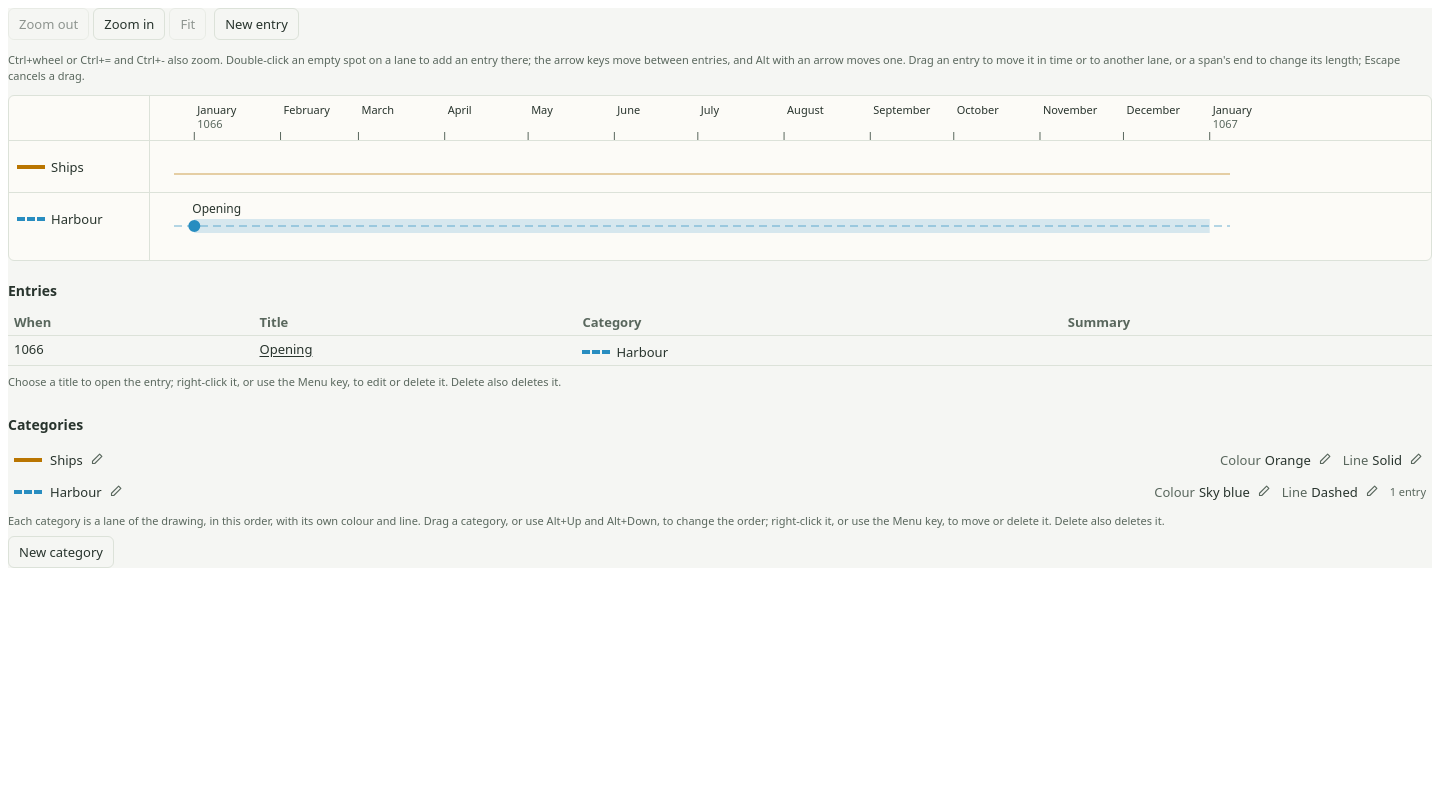
Test: timeline entries › are deleted from their dialog after asking
This screenshot has width=1440, height=810.
Click the button "Opening" below "When" at (286, 349), box [260,340,312,358]
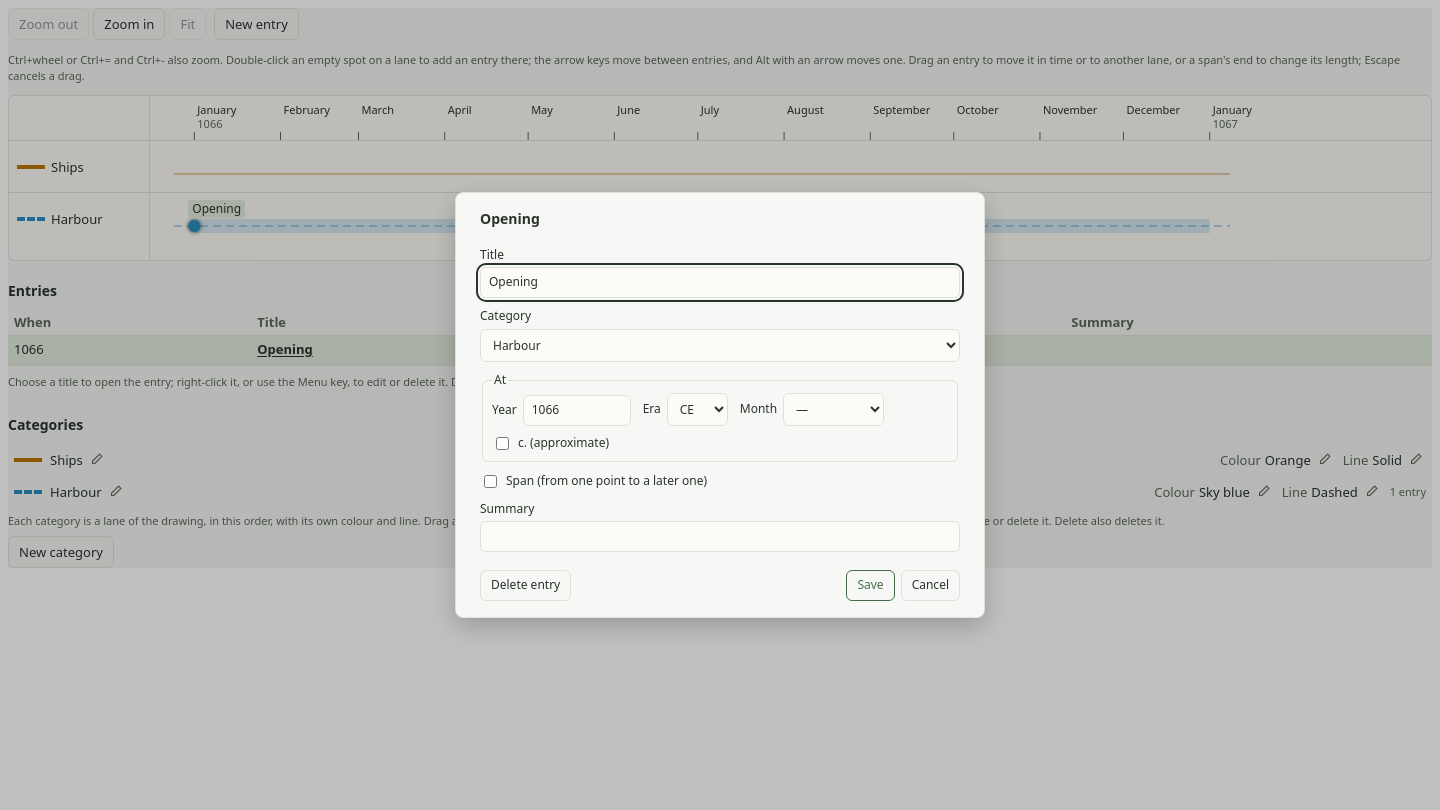
Click the button "Delete entry" at (526, 586), box [480,570,571,601]
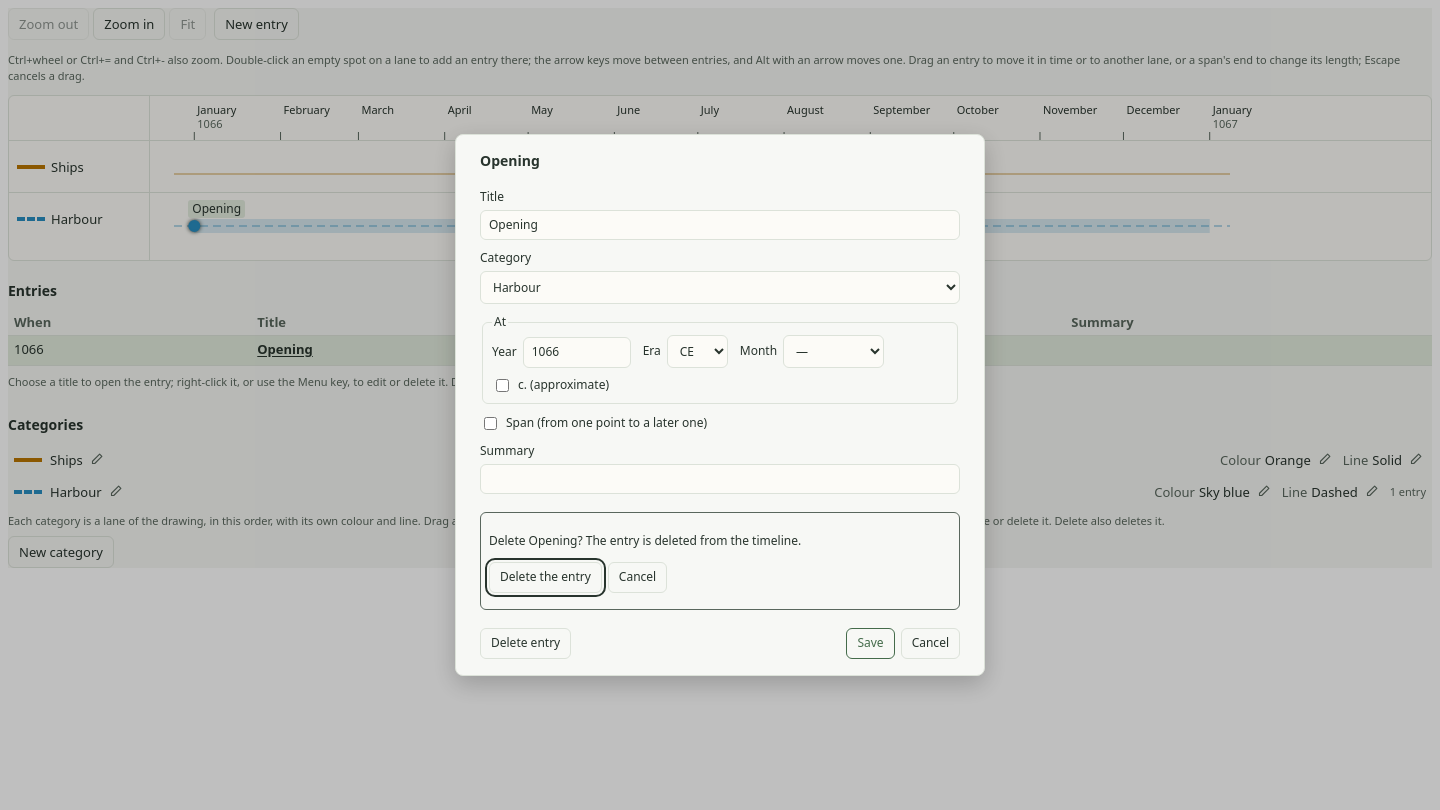
Click the 1st button "Cancel" at (638, 578), box [608,562,667,593]
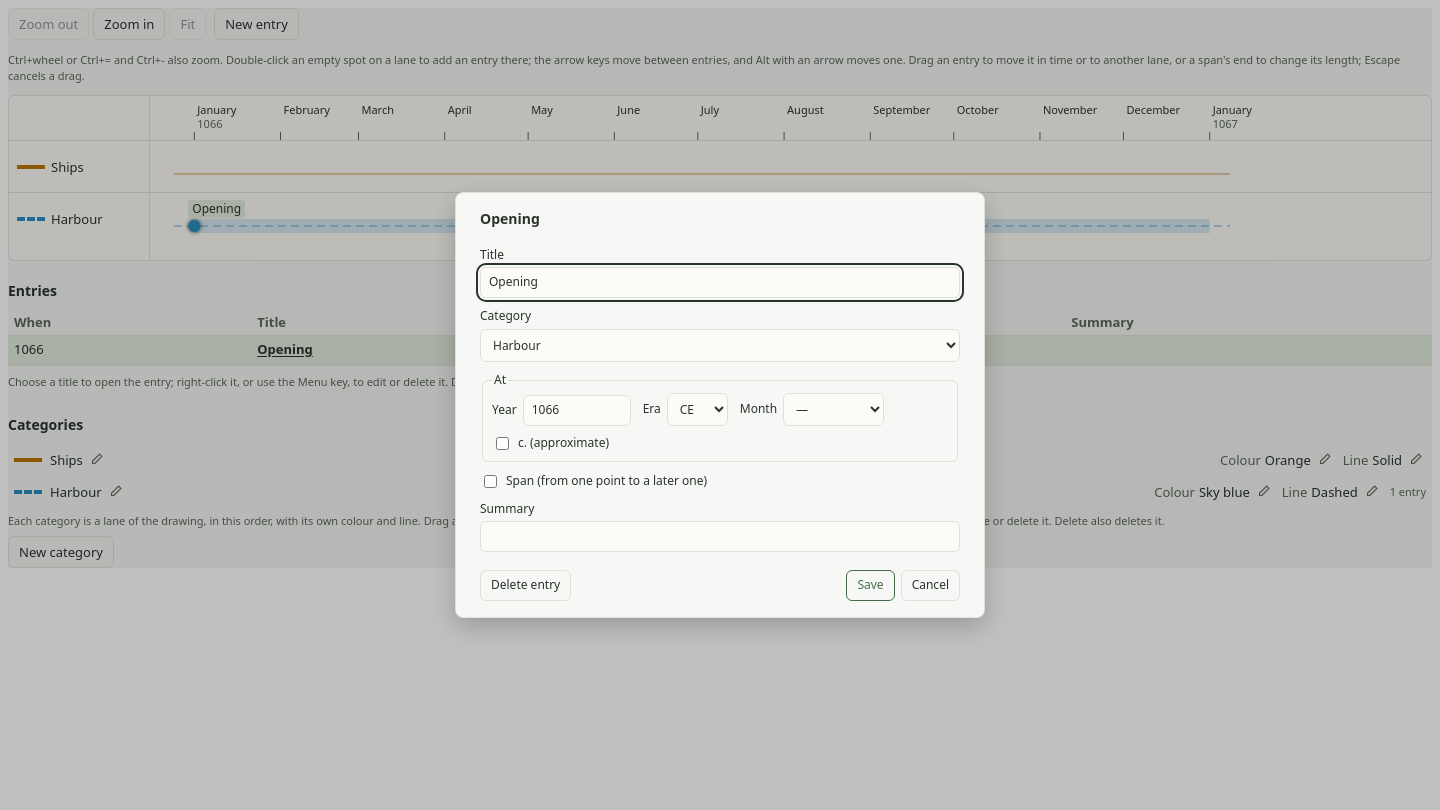
Click the button "Delete entry" at (526, 586), box [480,570,571,601]
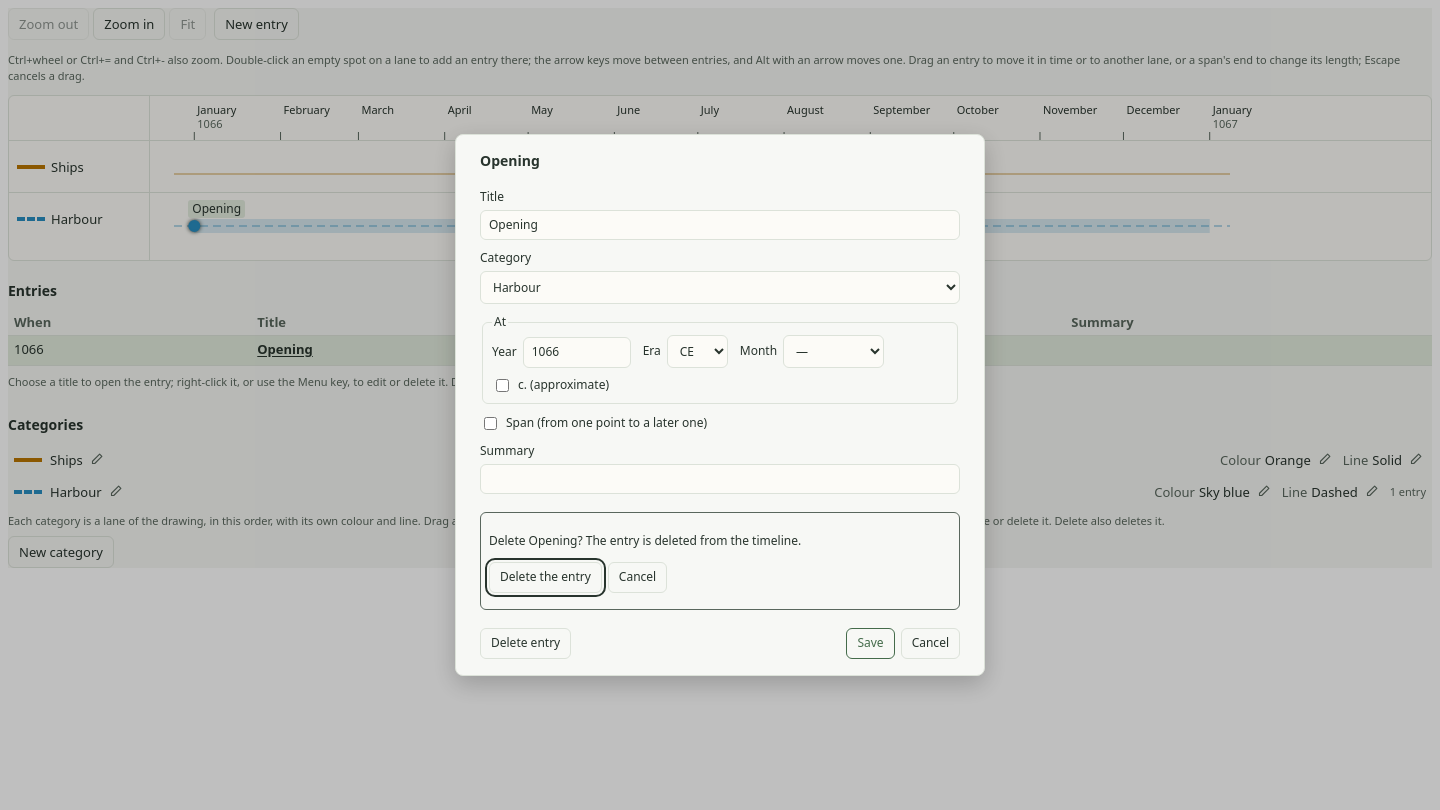
Click the button "Delete the entry" at (545, 578), box [489,562,602,593]
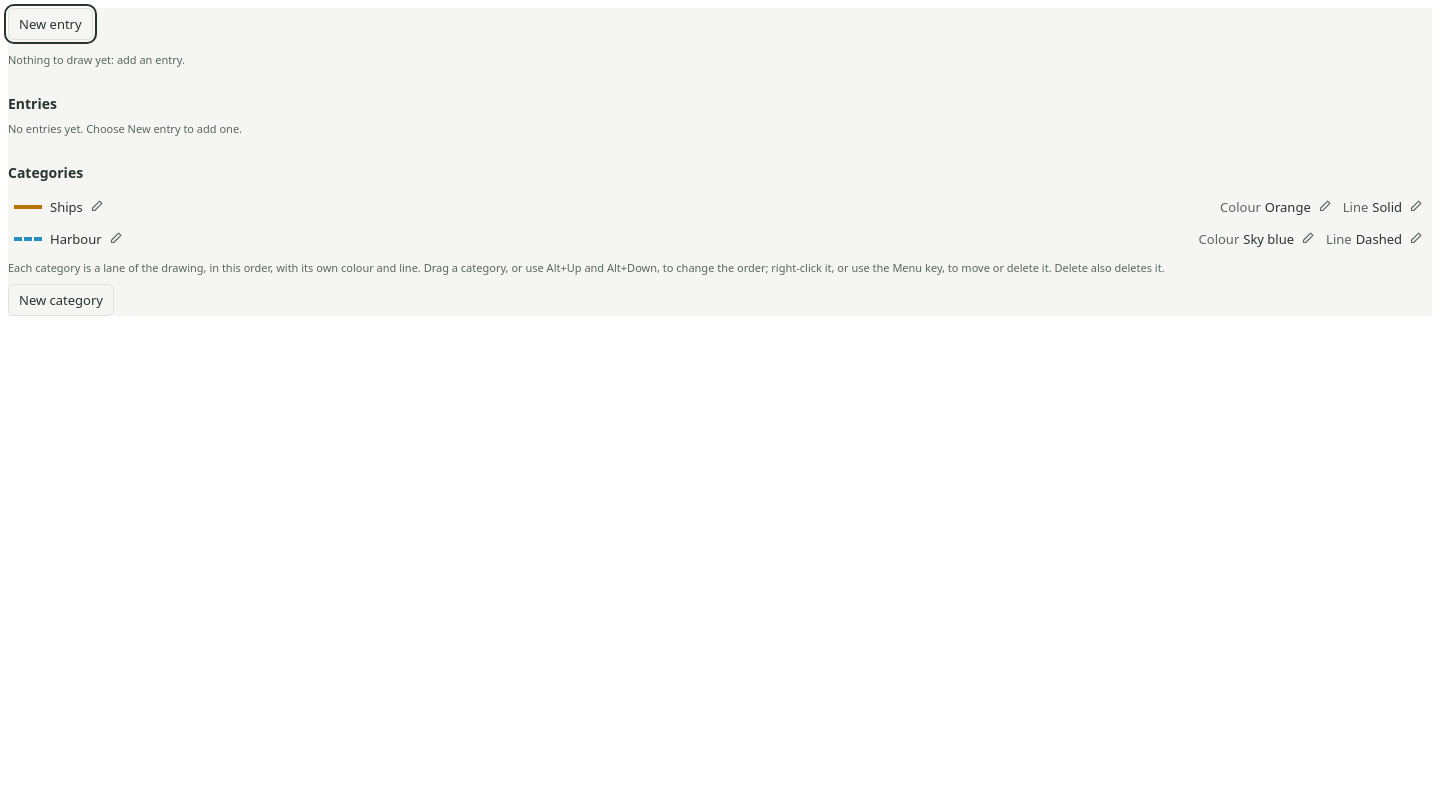
Now the dialog is gone
Now the text "No entries yet. Choose New entry to add one." is shown, box [8,121,242,136]
